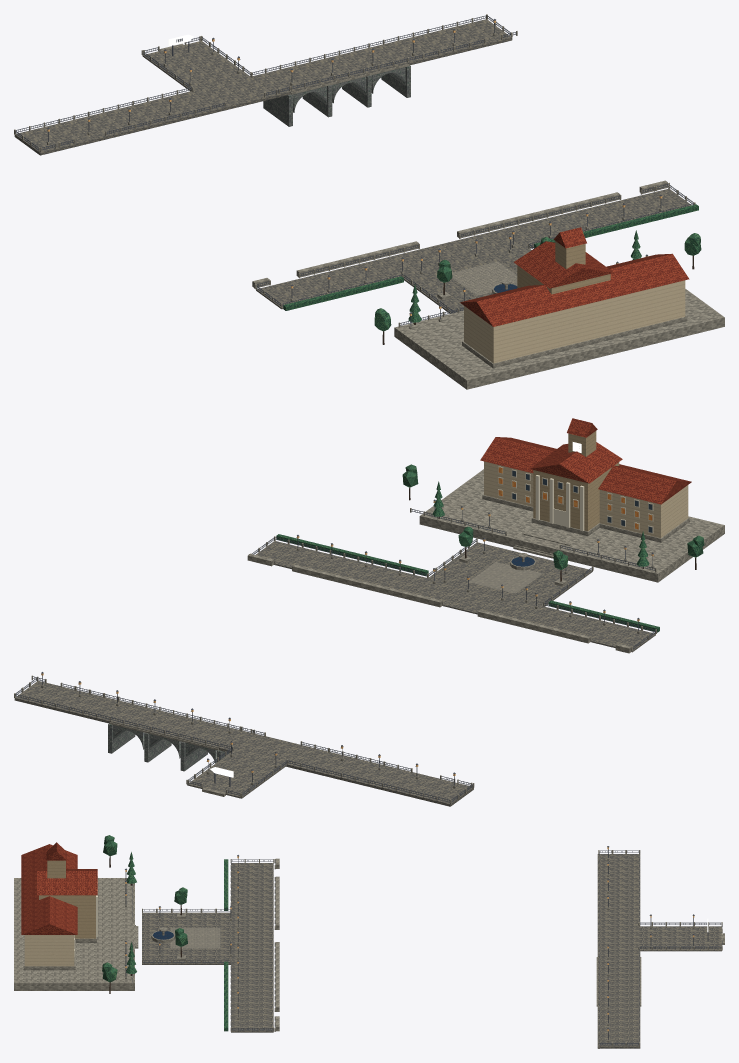
The model's file is MB_Shared_Arrival_FERI.fbx.
3 renders of one model, top to bottom at view 1: azimuth 30°, elevation 25°; view 2: azimuth 150°, elevation 25°; view 3: azimuth 270°, elevation 25°, orthographic. The views are drawn at different scales.
Parts seen in each view (by area): view 1: Floor_Merge, Floor_Fork, MB_Shared_Arrival_FERI_Dressing_-2_0, MB_Shared_Arrival_FERI_Dressing_-2_-1, HallWing, MB_Shared_Arrival_FERI_Dressing_0_0.001, Floor_FERI, MB_Shared_Arrival_FERI_Dressing_5_0, Floor_Arrival, MB_Shared_Arrival_FERI_Dressing_1_0.001, MB_Shared_Arrival_FERI_Dressing_-2_0.001, PlazaInlay (+6 smaller); view 2: MB_Shared_Arrival_FERI_Dressing_-2_0, Floor_Merge, Floor_Fork, MB_Shared_Arrival_FERI_Dressing_-2_-1, HallWing, Floor_Arrival, MB_Shared_Arrival_FERI_Dressing_0_0.001, MB_Shared_Arrival_FERI_Dressing_-2_0.001, Floor_FERI, MB_Shared_Arrival_FERI_Dressing_5_0, MB_Shared_Arrival_FERI_Dressing_1_0.001, PlazaInlay (+8 smaller); view 3: Floor_Merge, Floor_Fork, MB_Shared_Arrival_FERI_Dressing_-2_0, MB_Shared_Arrival_FERI_Dressing_-2_-1, Floor_Arrival, Floor_FERI, HallWing, MB_Shared_Arrival_FERI_Dressing_0_0.001, MB_Shared_Arrival_FERI_Dressing_-2_0.001, PlazaInlay, MB_Shared_Arrival_FERI_Dressing_-1_0.002, MB_Shared_Arrival_FERI_Dressing_-1_-1.002 (+2 smaller).
Boxes of the visible parts, bbox=[...] form: Floor_Merge: bbox=[14, 19, 512, 155]; Floor_Fork: bbox=[256, 188, 691, 309]; MB_Shared_Arrival_FERI_Dressing_-2_0: bbox=[394, 289, 724, 389]; MB_Shared_Arrival_FERI_Dressing_-2_-1: bbox=[460, 227, 689, 326]; HallWing: bbox=[464, 280, 685, 363]; MB_Shared_Arrival_FERI_Dressing_0_0.001: bbox=[14, 14, 695, 249]; Floor_FERI: bbox=[142, 41, 252, 92]; MB_Shared_Arrival_FERI_Dressing_5_0: bbox=[263, 65, 410, 126]; Floor_Arrival: bbox=[404, 248, 531, 313]; MB_Shared_Arrival_FERI_Dressing_1_0.001: bbox=[457, 180, 667, 238]; MB_Shared_Arrival_FERI_Dressing_-2_0.001: bbox=[517, 241, 610, 294]; PlazaInlay: bbox=[452, 261, 517, 295]; MB_Shared_Arrival_FERI_Dressing_-2_0: bbox=[419, 469, 724, 582]; Floor_Merge: bbox=[14, 681, 473, 806]; Floor_Fork: bbox=[256, 541, 655, 652]; MB_Shared_Arrival_FERI_Dressing_-2_-1: bbox=[480, 418, 691, 504]; HallWing: bbox=[484, 461, 688, 538]; Floor_Arrival: bbox=[429, 542, 592, 606]; MB_Shared_Arrival_FERI_Dressing_0_0.001: bbox=[14, 536, 474, 804]; MB_Shared_Arrival_FERI_Dressing_-2_0.001: bbox=[533, 431, 619, 531]; Floor_FERI: bbox=[187, 749, 286, 798]; MB_Shared_Arrival_FERI_Dressing_5_0: bbox=[108, 724, 229, 771]; MB_Shared_Arrival_FERI_Dressing_1_0.001: bbox=[247, 554, 442, 607]; PlazaInlay: bbox=[468, 562, 542, 593]; Floor_Merge: bbox=[597, 854, 640, 1048]; Floor_Fork: bbox=[231, 863, 273, 1032]; MB_Shared_Arrival_FERI_Dressing_-2_0: bbox=[14, 878, 134, 990]; MB_Shared_Arrival_FERI_Dressing_-2_-1: bbox=[21, 842, 97, 934]; Floor_Arrival: bbox=[142, 912, 230, 964]; Floor_FERI: bbox=[636, 926, 721, 951]; HallWing: bbox=[24, 935, 74, 966]; MB_Shared_Arrival_FERI_Dressing_0_0.001: bbox=[186, 850, 722, 1048]; MB_Shared_Arrival_FERI_Dressing_-2_0.001: bbox=[39, 860, 95, 938]; PlazaInlay: bbox=[170, 927, 220, 948]; MB_Shared_Arrival_FERI_Dressing_-1_0.002: bbox=[102, 928, 187, 993]; MB_Shared_Arrival_FERI_Dressing_-1_-1.002: bbox=[103, 835, 187, 915].
Bounding box in the file's own units: 12980 × 3740 × 19980.
Materials: 17 (12 with a texture image).
